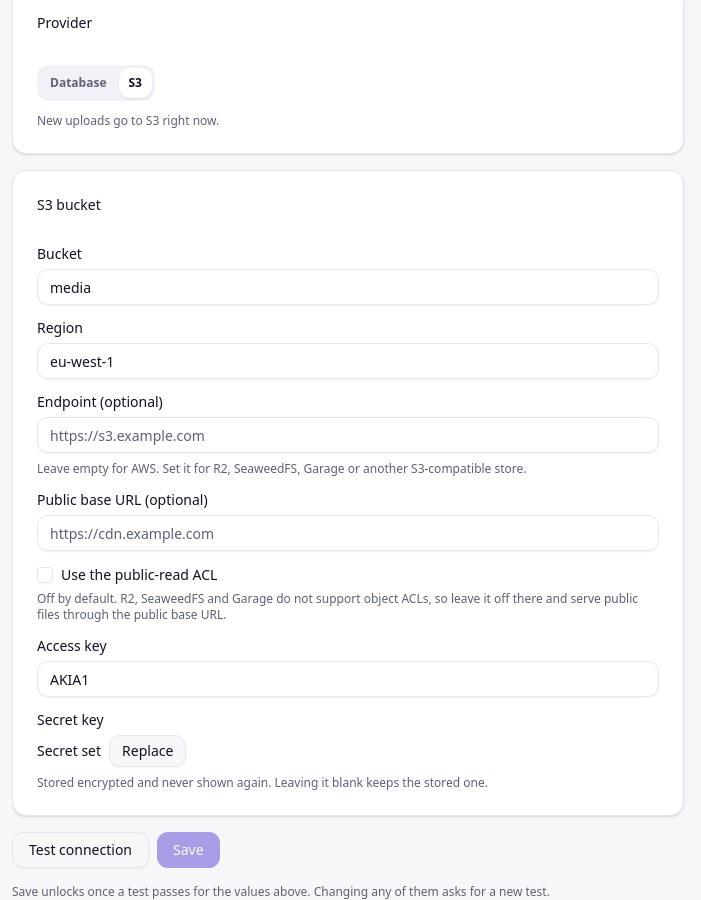
the storage settings screen › names the failed step and the provider error code when a test fails
(page scrolled)
Click the button "Test connection".
click(80, 850)  # box [12,832,149,868]
(page scrolled)
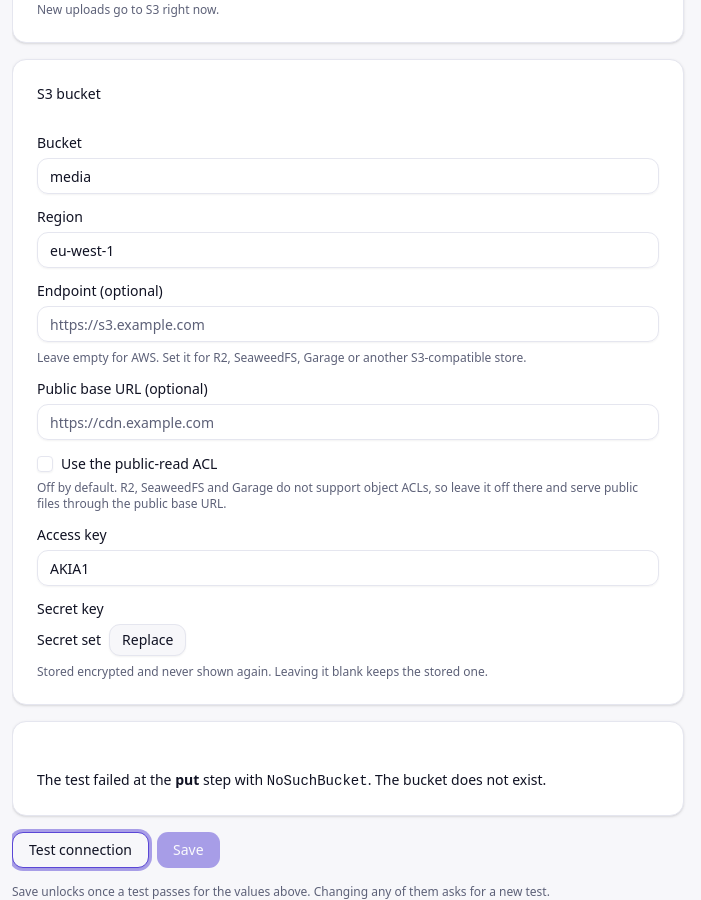
Check: the button "Save" is disabled, box [157,832,220,868]
Check: the text "put" is shown, box [175,770,199,789]
Check: the text "NoSuchBucket" is shown, box [267,773,368,789]
